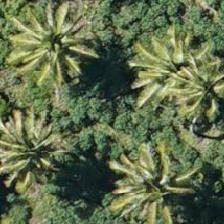coconut_tree: (130, 24, 220, 114), (12, 0, 102, 83), (110, 143, 200, 223), (0, 105, 75, 195), (160, 45, 223, 135)
